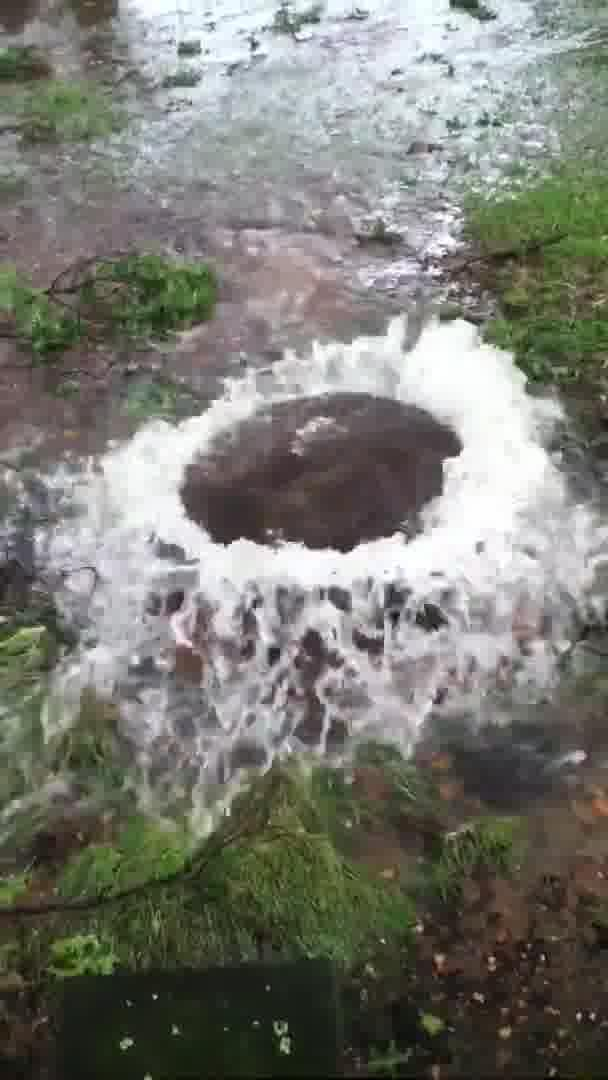drainage overflow-repair-: (38, 283, 586, 720)
